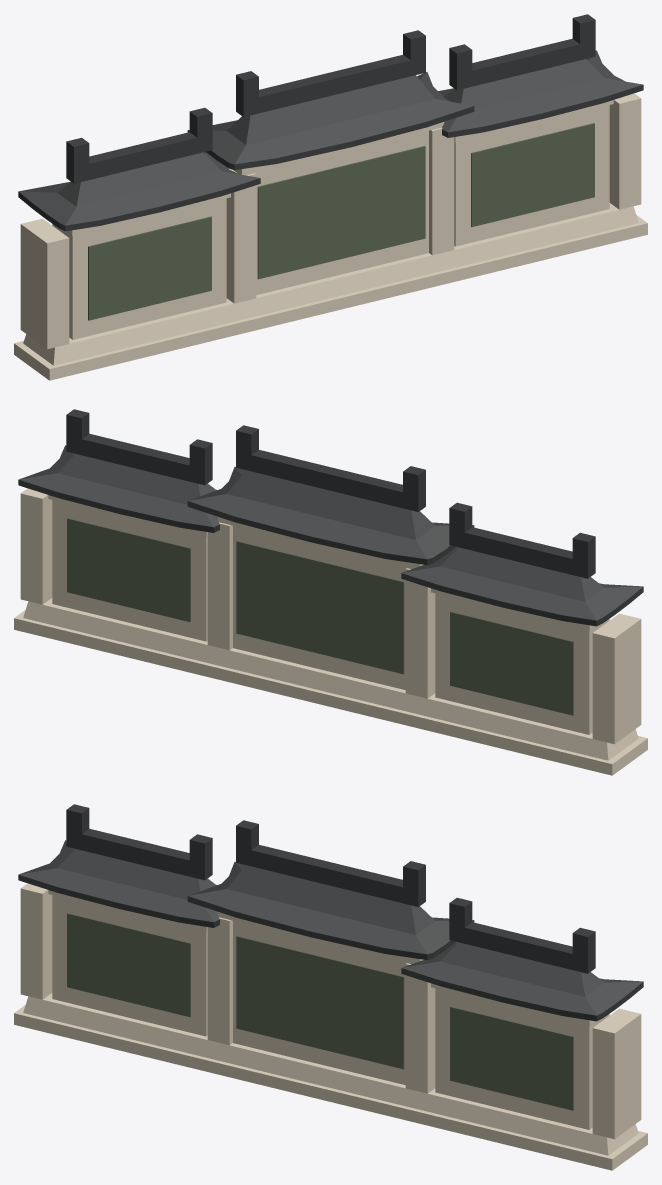
File: X05_far.glb
3 renders of one model, top to bottom at view 1: azimuth 30°, elevation 25°; view 2: azimuth 150°, elevation 25°; view 3: azimuth 330°, elevation 25°, orthographic.
Visible parts, largest first — view 1: X05_far; view 2: X05_far; view 3: X05_far.
Part boxes in pixels (bbox=[...]): X05_far: bbox=[14, 14, 647, 380]; X05_far: bbox=[14, 409, 647, 775]; X05_far: bbox=[14, 804, 647, 1170].
Size of the model in its own units: 27.2 by 10.4 by 3.69.
